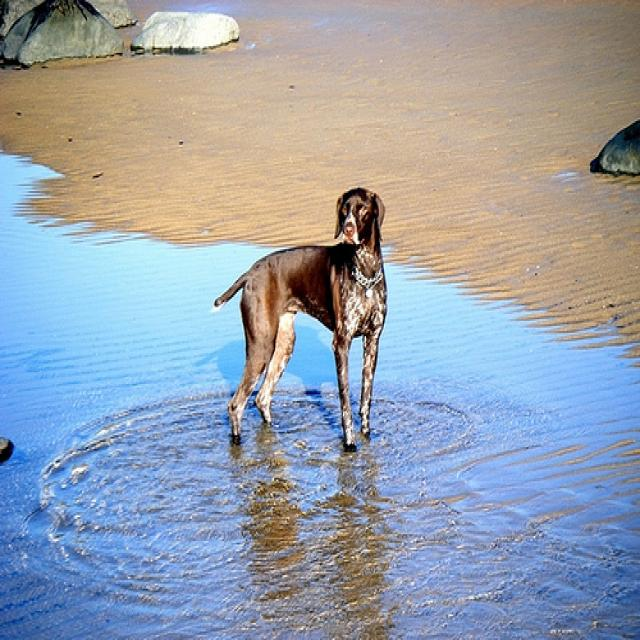dog-german_shorthaired: (202, 181, 394, 456)
